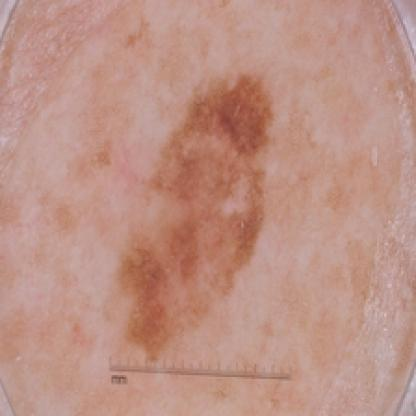malignant: (110, 58, 273, 351)
